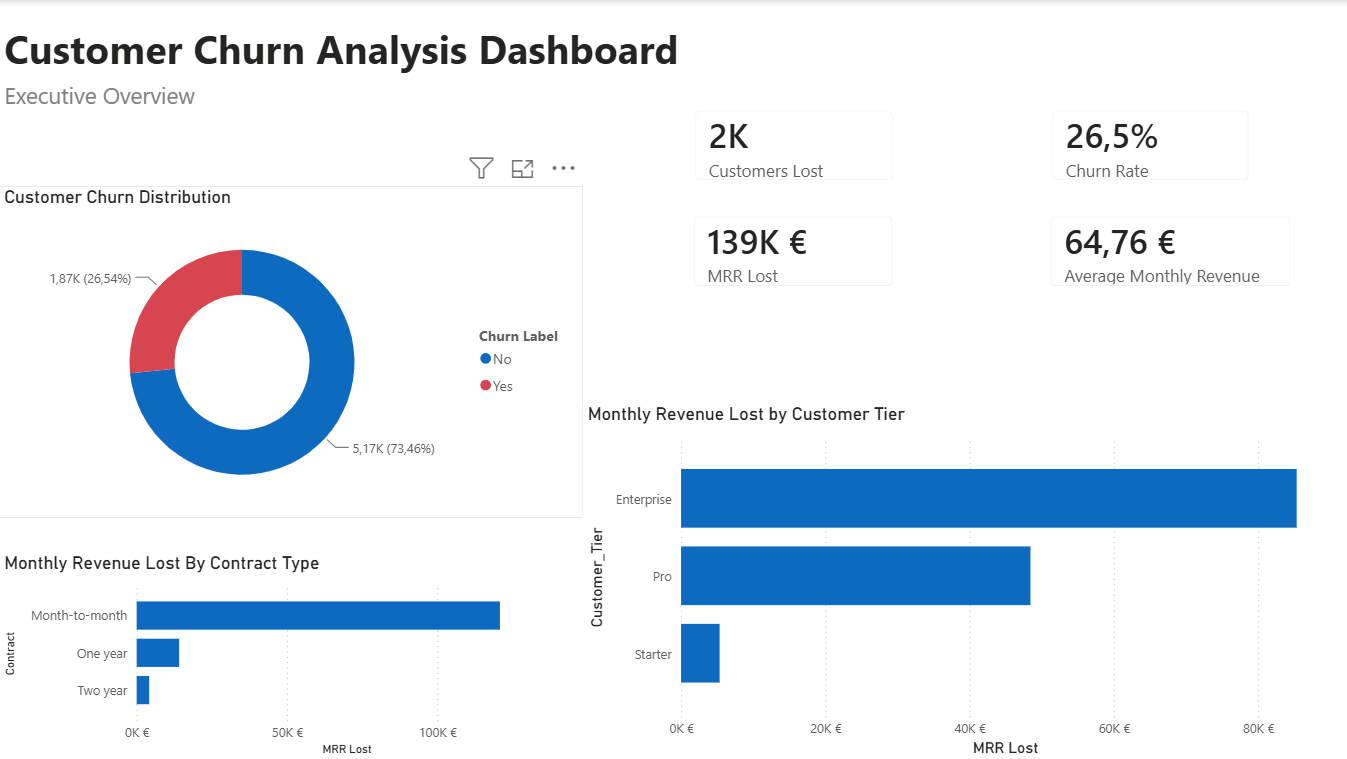

The page's visual inventory and layout, read from the dashboard file:
{"tool":"powerbi","page":{"name":"Executive Overview","canvas":[1280,720],"ordinal":0},"visuals":[{"type":"textbox","box":[0,15.6,670.3,80.9],"z":0},{"type":"textbox","box":[0,69.6,347.9,106.5],"z":1000},{"type":"cardVisual","fields":{"Data":["B2B_Churn_Limpo2.Churn Rate"]},"box":[979.9,88,220.1,99.4],"z":2000},{"type":"cardVisual","fields":{"Data":["B2B_Churn_Limpo2.Customers Lost"]},"box":[641.9,88,221.5,99.4],"z":3000},{"type":"cardVisual","fields":{"Data":["B2B_Churn_Limpo2.MRR Lost"]},"box":[640.5,187.5,223,100.8],"z":4000},{"type":"cardVisual","fields":{"Data":["B2B_Churn_Limpo2.Average Monthly Revenue"]},"box":[978.5,187.5,261.3,100.8],"z":5000},{"type":"donutChart","title":"Customer Churn Distribution","fields":{"Category":["B2B_Churn_Limpo2.Churn Label"],"Y":["CountNonNull(B2B_Churn_Limpo2.CustomerID)"]},"box":[0,176.1,552.4,313.8],"z":6000},{"type":"clusteredBarChart","title":"Monthly Revenue Lost by Customer Tier","fields":{"Category":["B2B_Churn_Limpo2.Customer_Tier"],"Y":["B2B_Churn_Limpo2.MRR Lost"]},"box":[551.8,381.7,727.6,338.3],"z":7000},{"type":"clusteredBarChart","title":"Monthly Revenue Lost By Contract Type","fields":{"Category":["B2B_Churn_Limpo2.Contract"],"Y":["B2B_Churn_Limpo2.MRR Lost"]},"box":[0,522.6,552.4,197.4],"z":8000}]}

Visuals, with their boxes in screenshot pixels (x1, y1, x2, y2), scaled from the page's 1280x720 canvas onto the 1347x759 screenshot:
textbox: bbox=(0, 16, 705, 102)
textbox: bbox=(0, 73, 366, 186)
cardVisual - B2B_Churn_Limpo2.Churn Rate: bbox=(1031, 93, 1263, 198)
cardVisual - B2B_Churn_Limpo2.Customers Lost: bbox=(675, 93, 909, 198)
cardVisual - B2B_Churn_Limpo2.MRR Lost: bbox=(674, 198, 909, 304)
cardVisual - B2B_Churn_Limpo2.Average Monthly Revenue: bbox=(1030, 198, 1305, 304)
"Customer Churn Distribution" donutChart: bbox=(0, 186, 581, 516)
"Monthly Revenue Lost by Customer Tier" clusteredBarChart: bbox=(581, 402, 1346, 758)
"Monthly Revenue Lost By Contract Type" clusteredBarChart: bbox=(0, 551, 581, 758)
